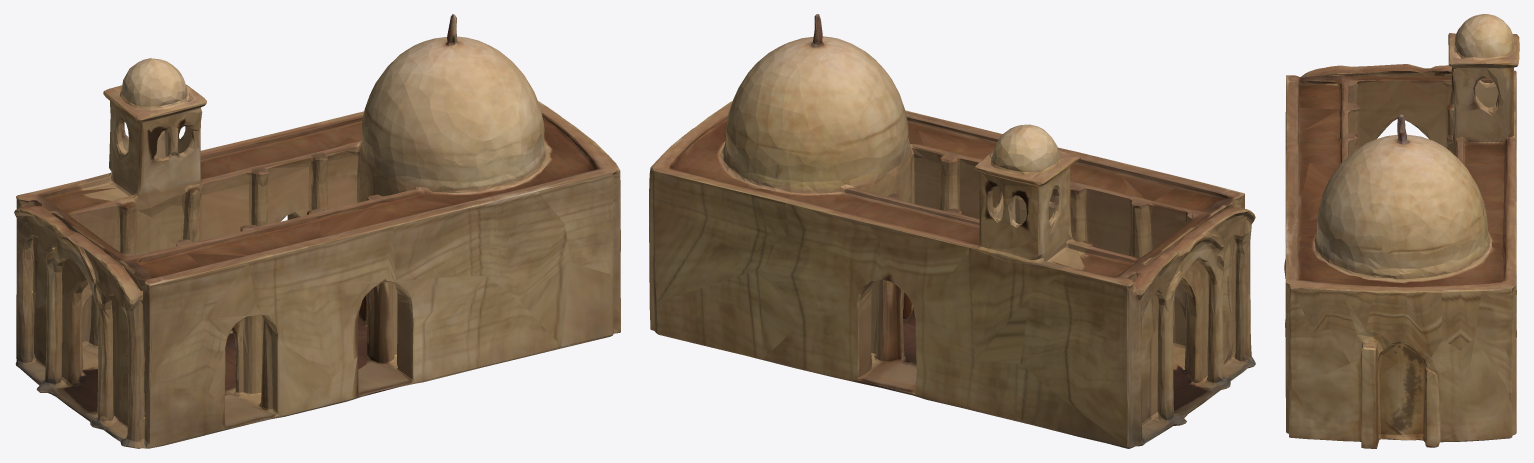
File: mosque.glb
The picture shows the model from 3 angles, left to right: view 1: azimuth 30°, elevation 25°; view 2: azimuth 150°, elevation 25°; view 3: azimuth 270°, elevation 25°; orthographic projection. The views are drawn at different scales.
Parts seen in each view (by area): view 1: Мечеть_двор; view 2: Мечеть_двор; view 3: Мечеть_двор.
Part boxes in pixels (bbox=[...]): Мечеть_двор: bbox=[14, 14, 620, 448]; Мечеть_двор: bbox=[649, 14, 1255, 448]; Мечеть_двор: bbox=[1284, 14, 1519, 448].
Bounding box in the file's own units: 18.01 × 9.91 × 7.59.
Materials: 1 (1 with a texture image).
